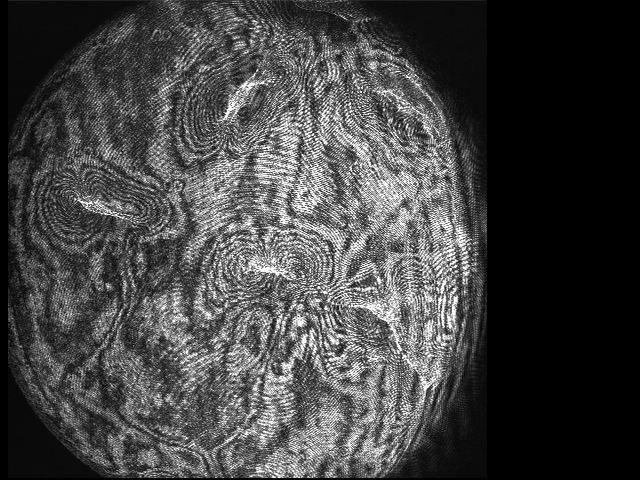plume: (39, 163, 173, 242), (190, 54, 296, 145), (209, 232, 326, 297)
